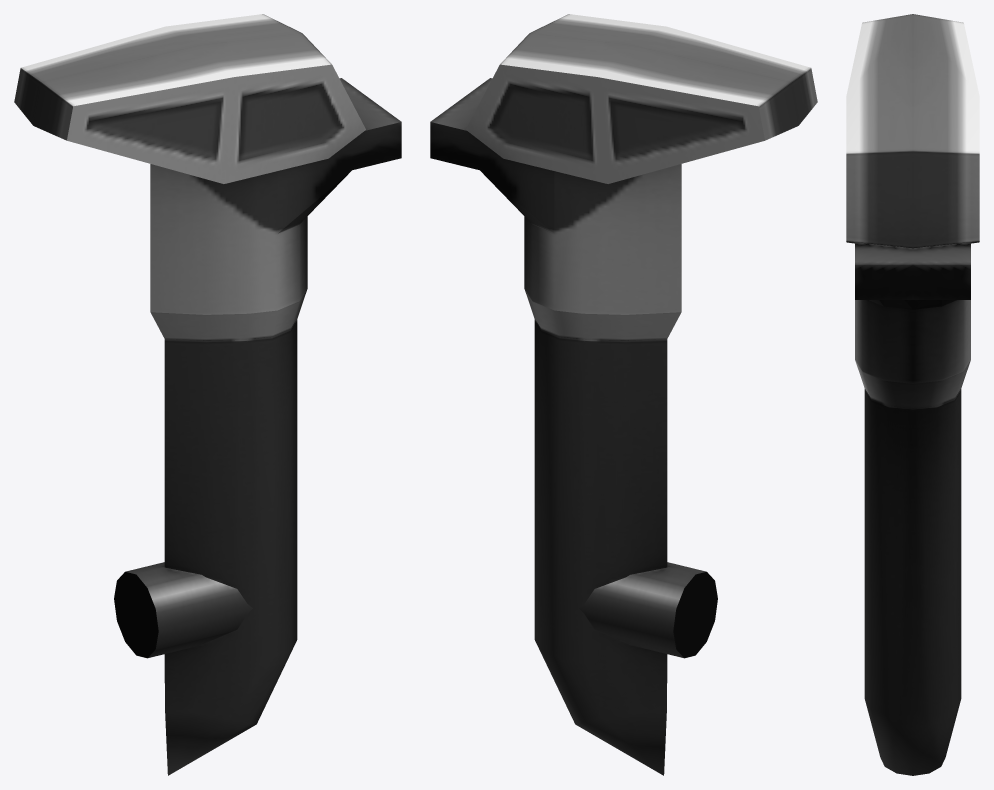
The model's file is engine.dae.
The picture shows the model from 3 angles, left to right: view 1: azimuth 30°, elevation 25°; view 2: azimuth 150°, elevation 25°; view 3: azimuth 270°, elevation 25°; orthographic projection. The views are drawn at different scales.
Visible parts, largest first — view 1: Engine_Left; view 2: Engine_Left; view 3: Engine_Left.
Part boxes in pixels (bbox=[...]): Engine_Left: bbox=[14, 14, 401, 775]; Engine_Left: bbox=[430, 14, 817, 775]; Engine_Left: bbox=[846, 14, 979, 775].
Bounding box in the file's own units: 0.443 × 0.1566 × 0.9065.
